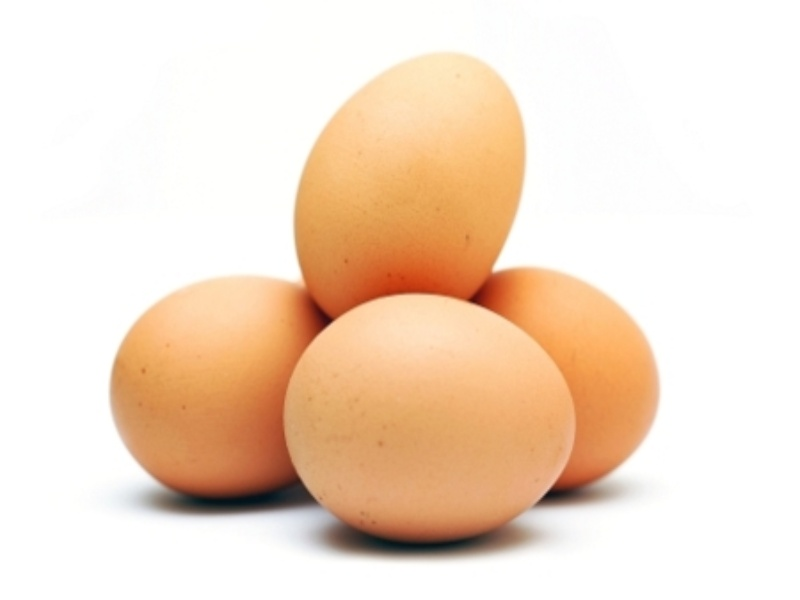Huevo: (282, 291, 576, 548), (292, 55, 527, 322), (109, 276, 334, 499), (473, 268, 660, 495)
